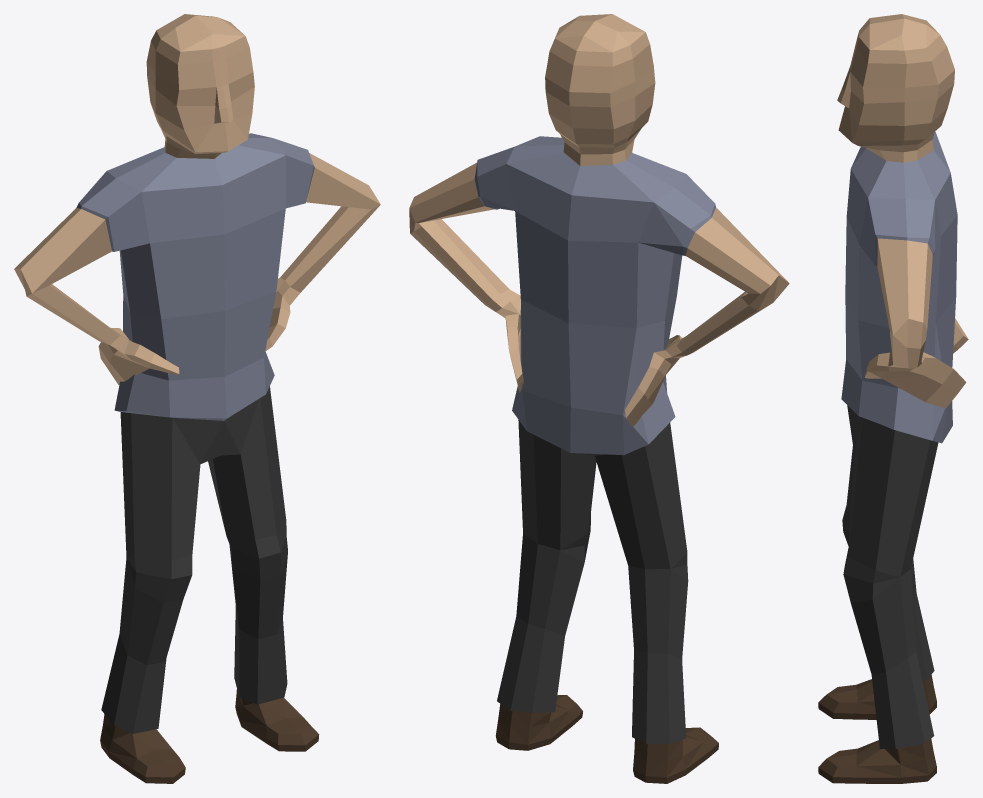
Rendered from crowd_eclair_male_standing_hips.232c379d.glb.
3 views of the same model, side by side, from view 1: azimuth 30°, elevation 25°; view 2: azimuth 150°, elevation 25°; view 3: azimuth 270°, elevation 25° (orthographic).
Visible parts, largest first — view 1: Shirt, Pants, Skin, Shoes; view 2: Shirt, Pants, Skin, Shoes; view 3: Skin, Pants, Shirt, Shoes.
Boxes of the visible parts, box(x1,y1,x2,y2) form: Shirt: box(76, 133, 314, 420); Pants: box(101, 386, 287, 733); Skin: box(14, 14, 380, 384); Shoes: box(100, 689, 319, 783); Shirt: box(474, 136, 715, 455); Pants: box(497, 420, 688, 744); Skin: box(409, 14, 789, 426); Shoes: box(495, 695, 718, 783); Skin: box(837, 14, 968, 408); Pants: box(842, 405, 938, 748); Shirt: box(841, 131, 957, 443); Shoes: box(818, 675, 936, 783).
Bounding box in the file's own units: 1.98 × 3.82 × 0.7208.
